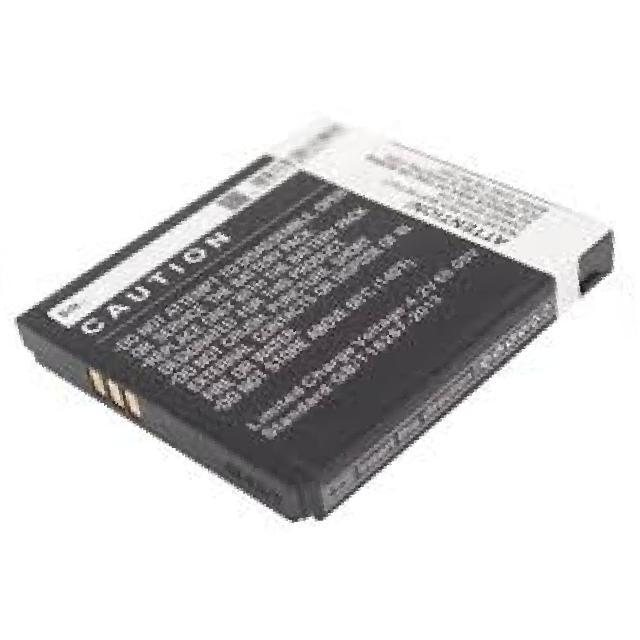Battery: (8, 110, 624, 532)
